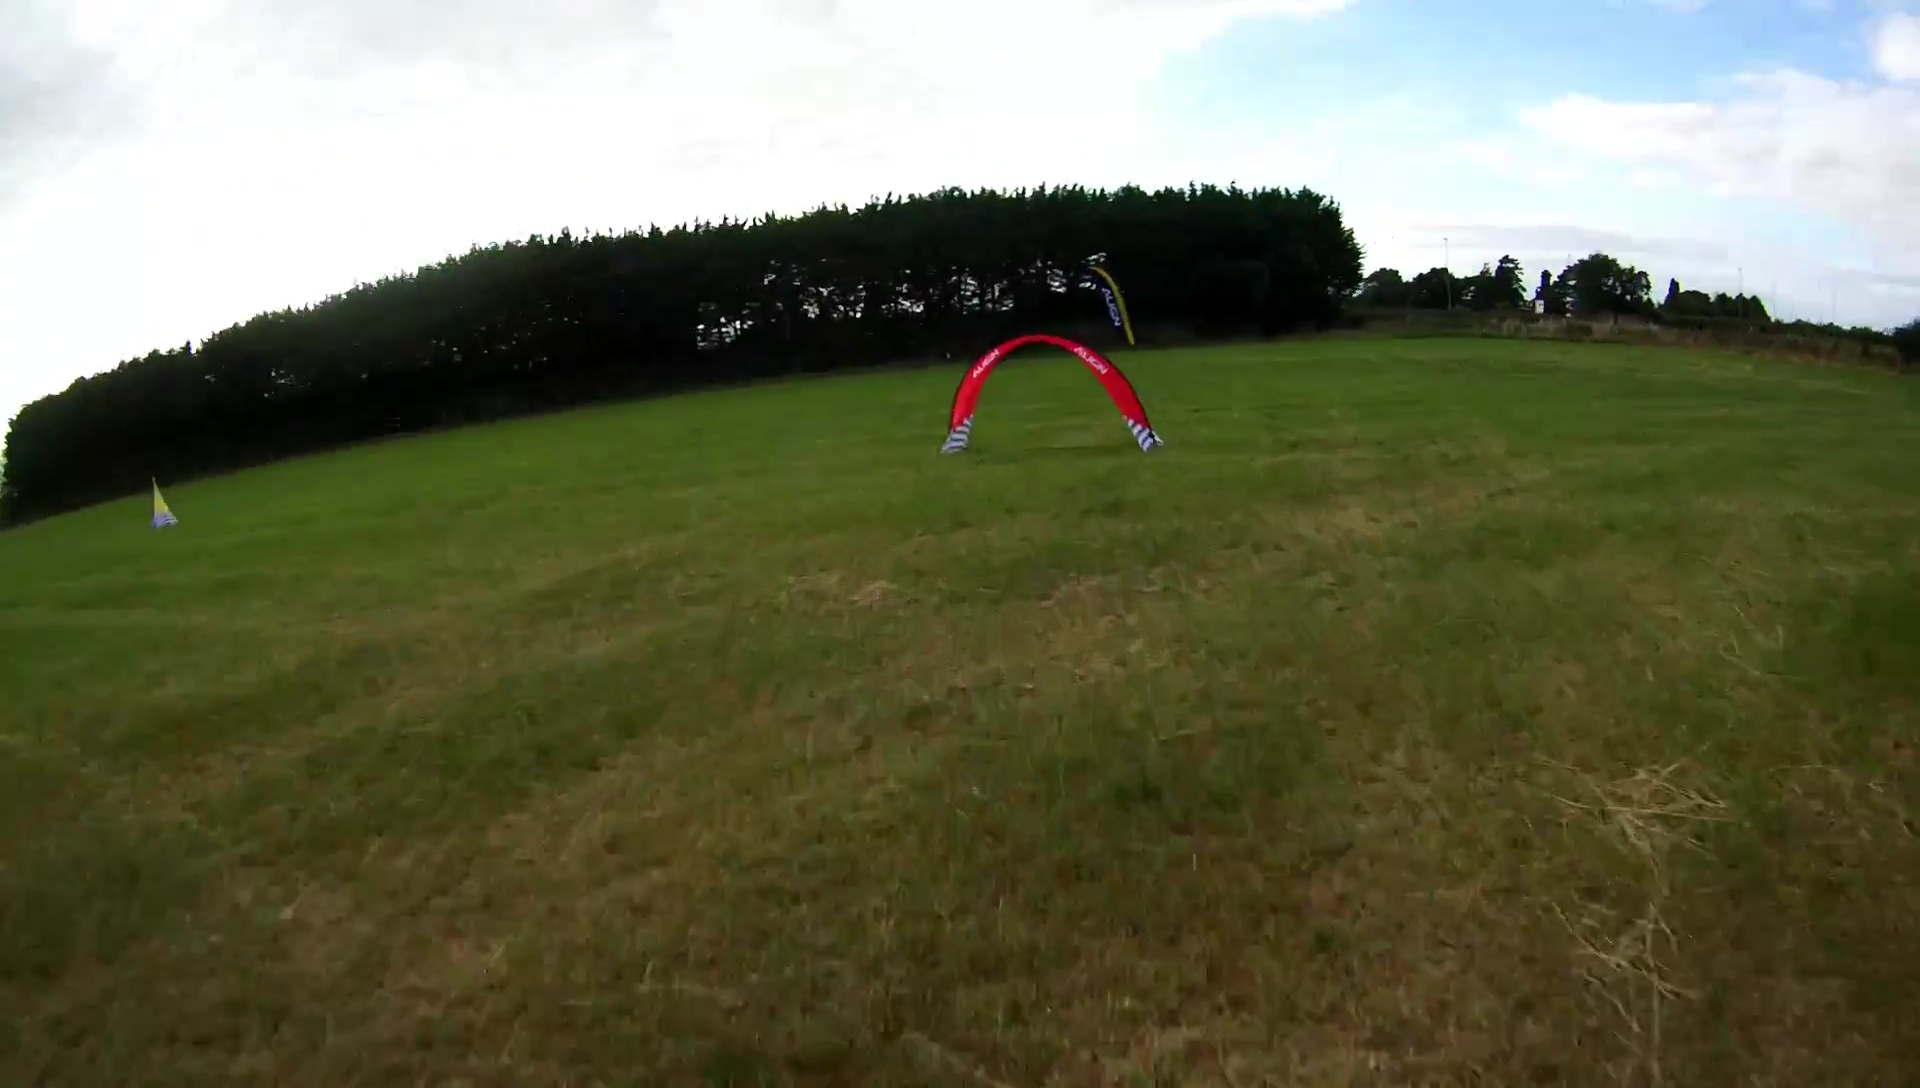gate: (938, 328, 1164, 459)
